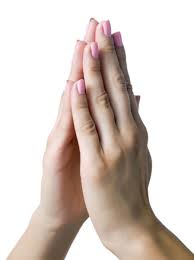hand: (31, 10, 185, 236)
